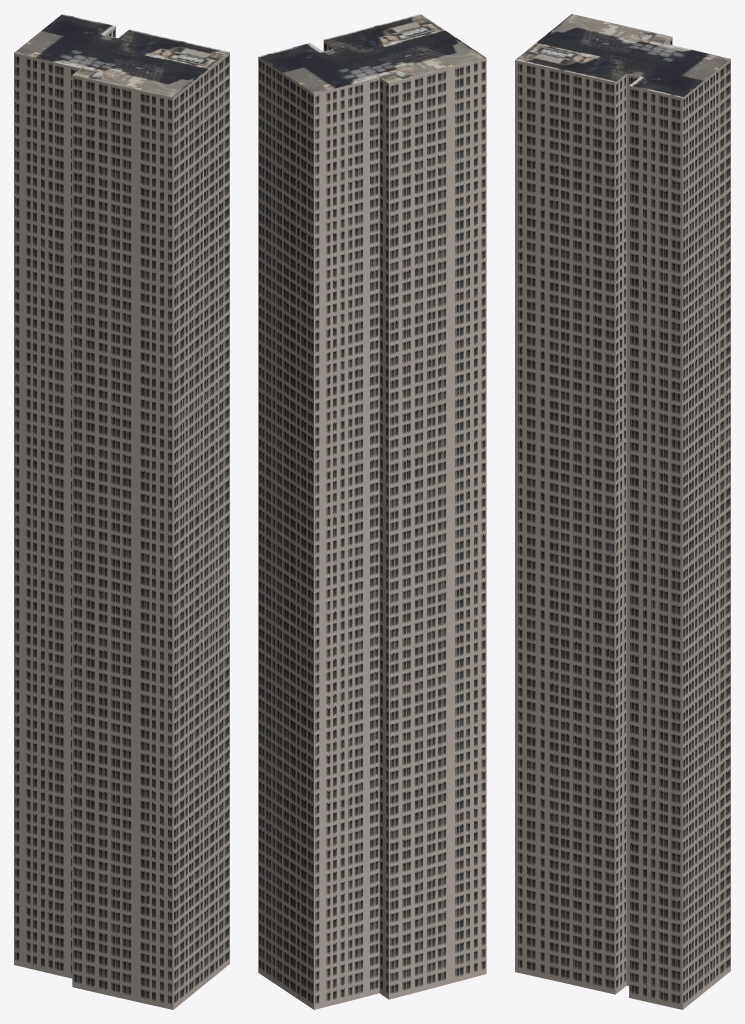
File: building42.fbx
3 views of the same model, side by side, from view 1: azimuth 90°, elevation 25°; view 2: azimuth 150°, elevation 25°; view 3: azimuth 270°, elevation 25° (orthographic).
Visible parts, largest first — view 1: geometryt040100010000000110110100110010010000100st46_53W53, Object.1052, geometryt040100010000000110110100110010010000100st47_53W53; view 2: geometryt040100010000000110110100110010010000100st46_53W53, Object.1052, geometryt040100010000000110110100110010010000100st47_53W53; view 3: geometryt040100010000000110110100110010010000100st46_53W53, Object.1052, geometryt040100010000000110110100110010010000100st47_53W53.
Boxes of the visible parts, left/top/right/bottom form: geometryt040100010000000110110100110010010000100st46_53W53: left=15, top=26, right=229, bottom=1004; Object.1052: left=14, top=26, right=229, bottom=1009; geometryt040100010000000110110100110010010000100st47_53W53: left=14, top=14, right=229, bottom=97; geometryt040100010000000110110100110010010000100st46_53W53: left=259, top=40, right=485, bottom=1004; Object.1052: left=258, top=40, right=486, bottom=1009; geometryt040100010000000110110100110010010000100st47_53W53: left=258, top=14, right=486, bottom=93; geometryt040100010000000110110100110010010000100st46_53W53: left=518, top=37, right=730, bottom=1004; Object.1052: left=515, top=37, right=730, bottom=1009; geometryt040100010000000110110100110010010000100st47_53W53: left=515, top=14, right=730, bottom=97.
Size of the model in its own units: 6311 by 32000 by 6865.
Materials: 3 (3 with a texture image).
